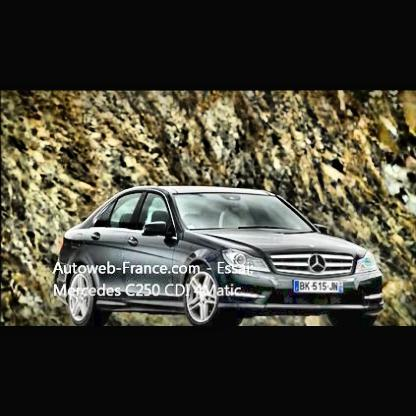Mercedes-Benz C-Class Sedan 2012: (56, 188, 386, 325)
